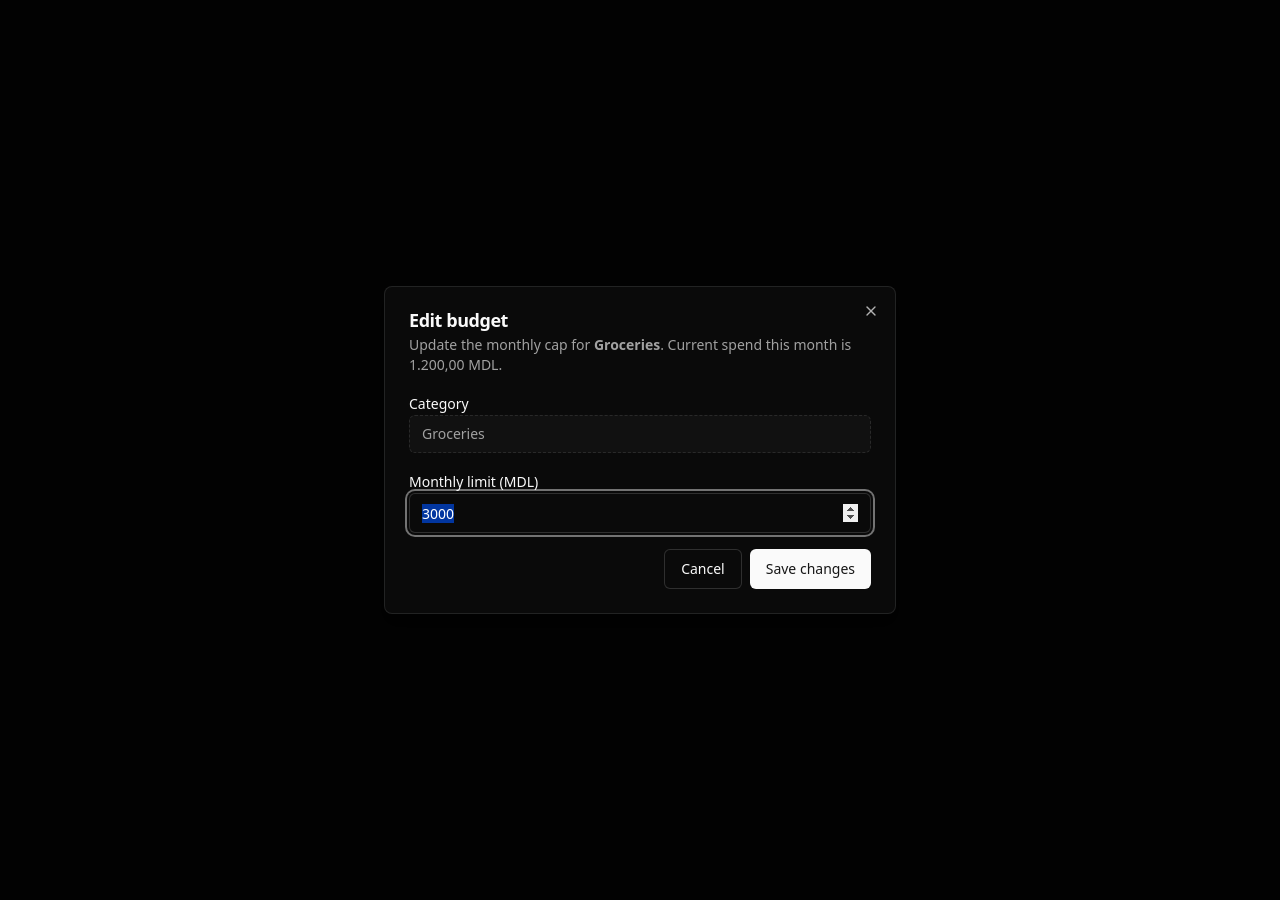
Test: EditBudgetDialog › shows the read-only category and current spend, then saves a new limit
Expected: the text with test id "edit-budget-category-readonly" reads "Groceries", [422, 424, 485, 443]
Replace the text in the number field with test id "edit-budget-monthly-limit-input" with "3500" at (640, 513), box [409, 493, 871, 533]
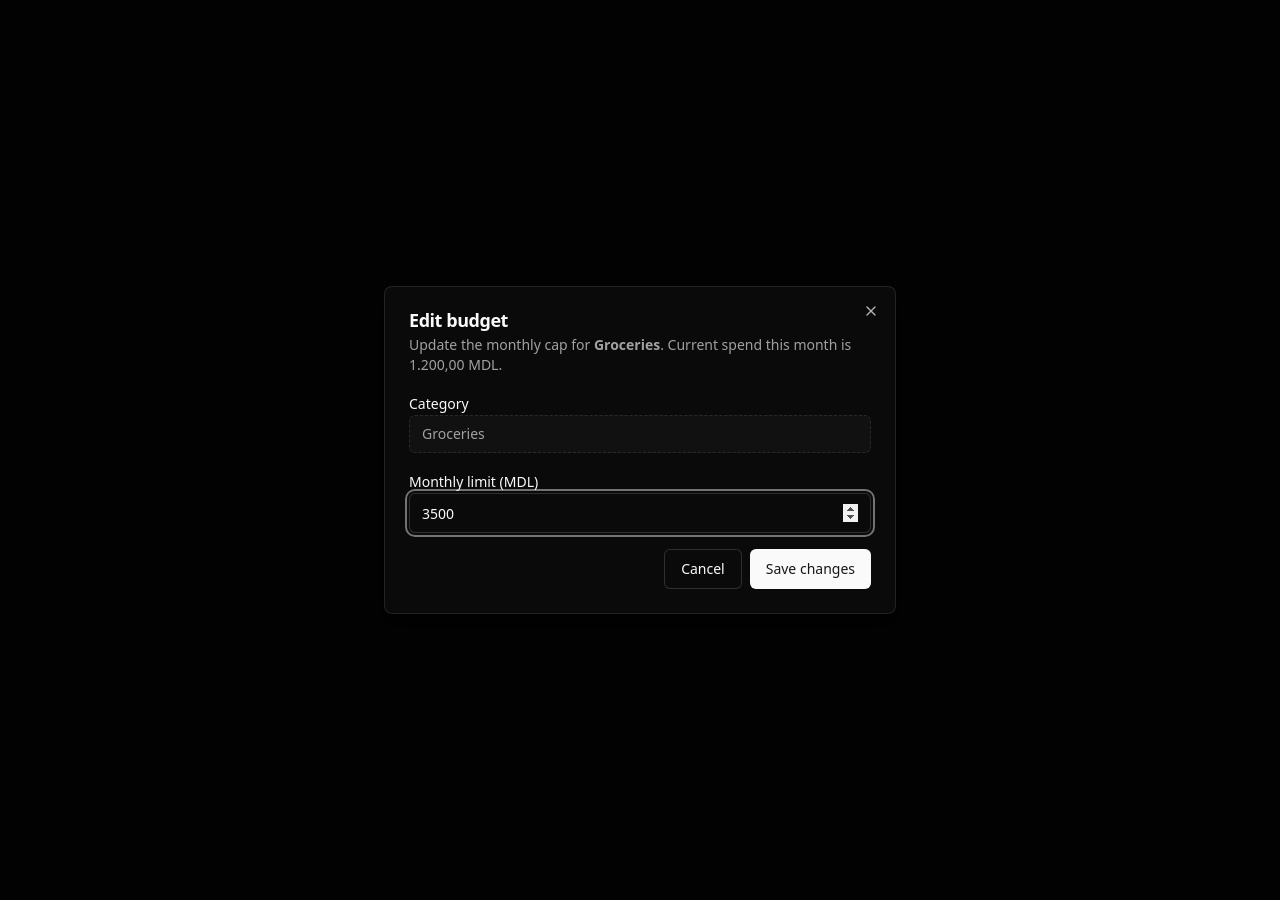
Click the button with test id "edit-budget-submit-button".
click(810, 569)  # box [750, 549, 871, 589]
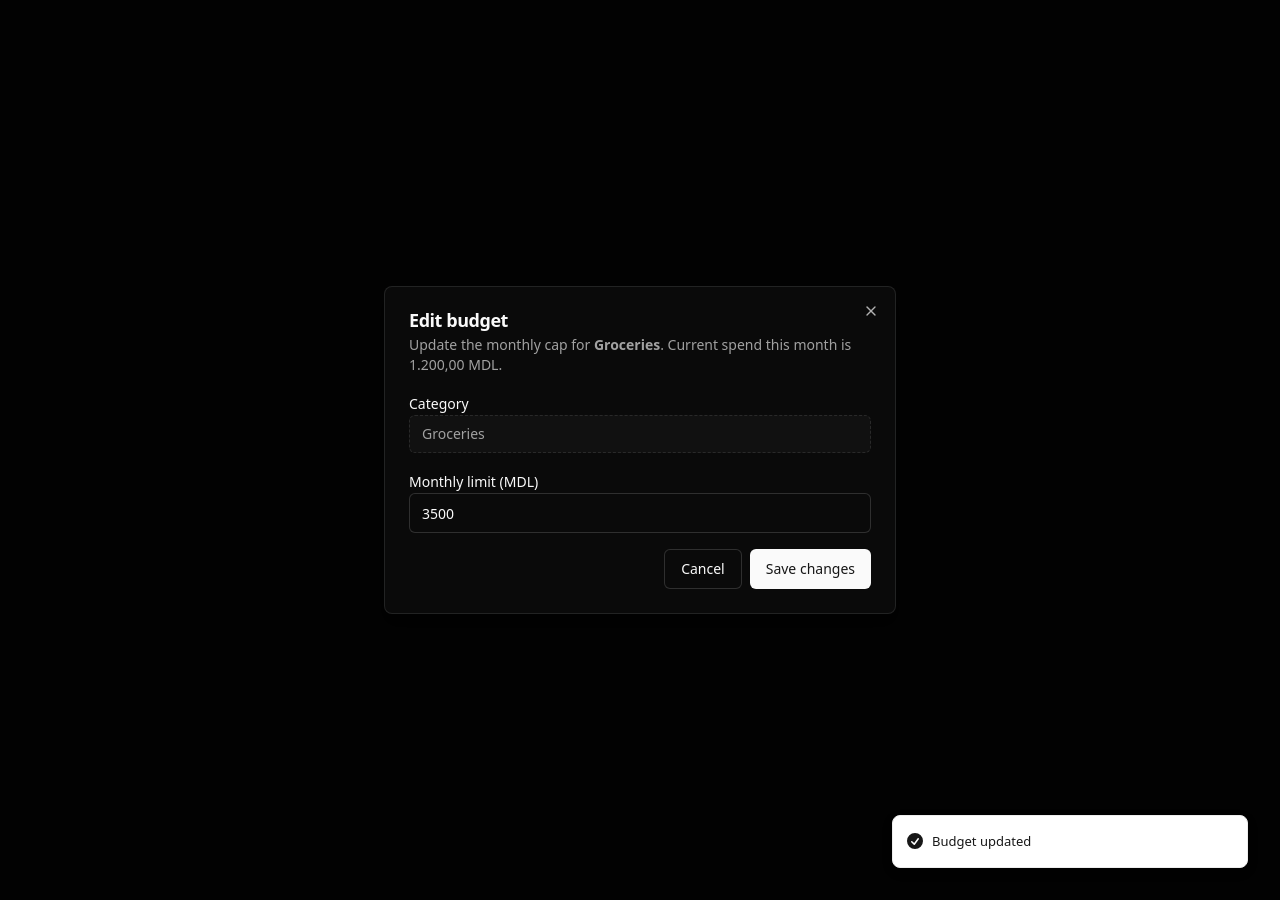
Expected: the text "Budget updated" is shown, [932, 832, 1031, 851]
